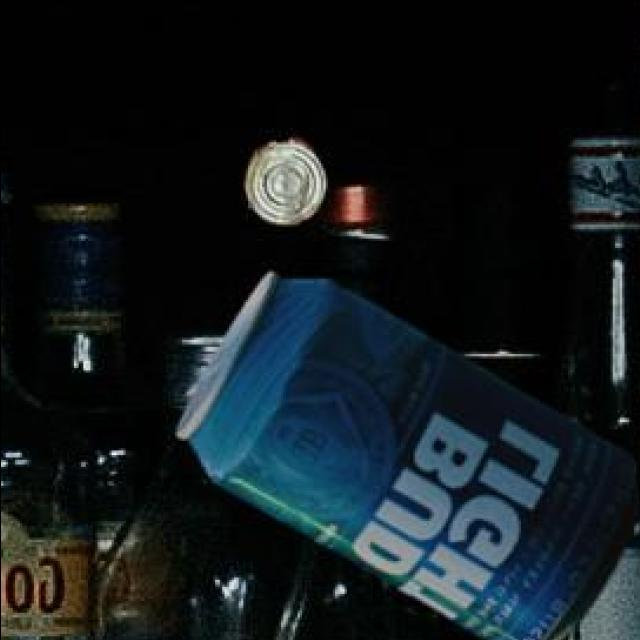logam: (180, 267, 640, 640), (248, 135, 328, 220)
